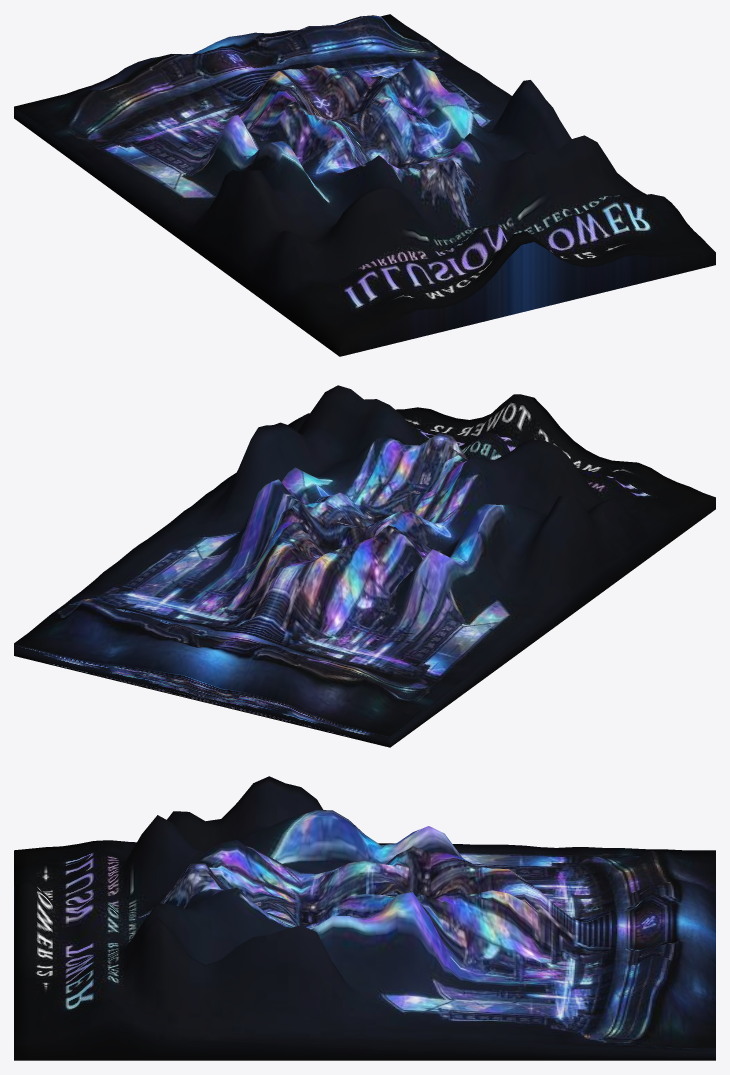
The model's file is TOWER_12_Illusion_Tower.glb.
3 renders of one model, top to bottom at view 1: azimuth 30°, elevation 25°; view 2: azimuth 150°, elevation 25°; view 3: azimuth 270°, elevation 25°, orthographic. The views are drawn at different scales.
Visible parts, largest first — view 1: TOWER_12_Illusion_Tower; view 2: TOWER_12_Illusion_Tower; view 3: TOWER_12_Illusion_Tower.
Boxes of the visible parts, left/top/right/bottom form: TOWER_12_Illusion_Tower: left=14, top=14, right=715, bottom=356; TOWER_12_Illusion_Tower: left=14, top=385, right=715, bottom=747; TOWER_12_Illusion_Tower: left=14, top=776, right=715, bottom=1060.
Bounding box in the file's own units: 2 × 0.51 × 3.
Materials: 1 (1 with a texture image).
